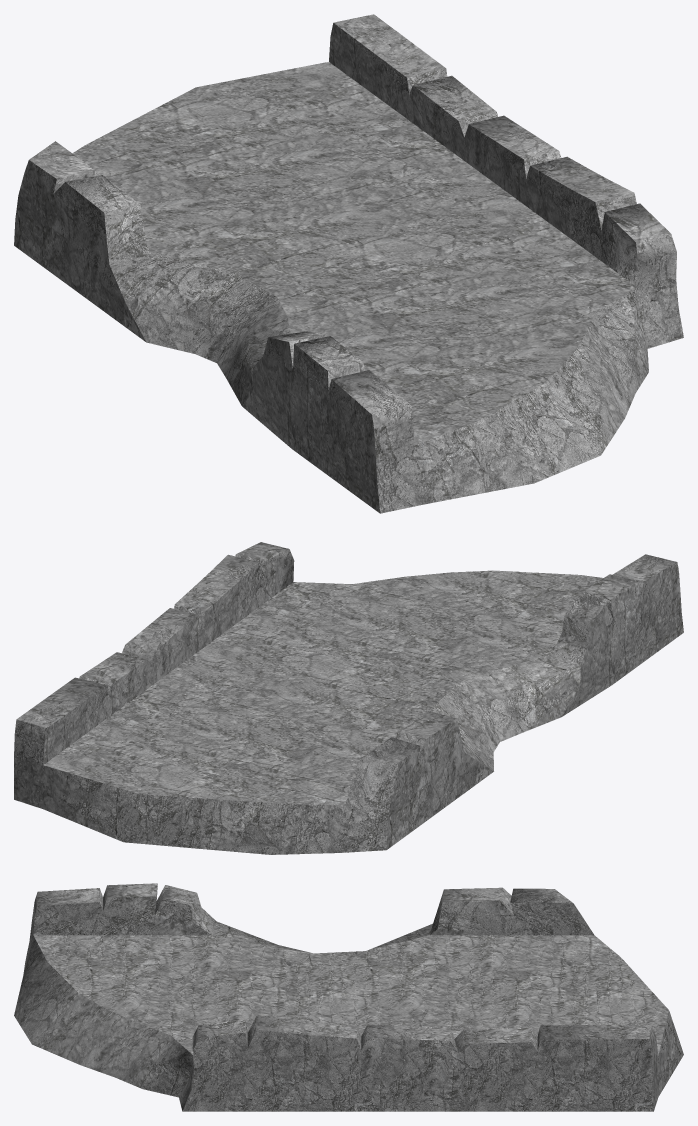
File: materials_3_road_5.fbx
3 views of the same model, one above another, from view 1: azimuth 30°, elevation 25°; view 2: azimuth 150°, elevation 25°; view 3: azimuth 270°, elevation 25° (orthographic). The views are drawn at different scales.
Visible parts, largest first — view 1: materials_3_road_5; view 2: materials_3_road_5; view 3: materials_3_road_5.
Part boxes in pixels (x1,y1,x2,y2): materials_3_road_5: [14, 14, 683, 513]; materials_3_road_5: [14, 542, 683, 854]; materials_3_road_5: [14, 883, 683, 1111].
Size of the model in its own units: 235 by 59.61 by 441.
